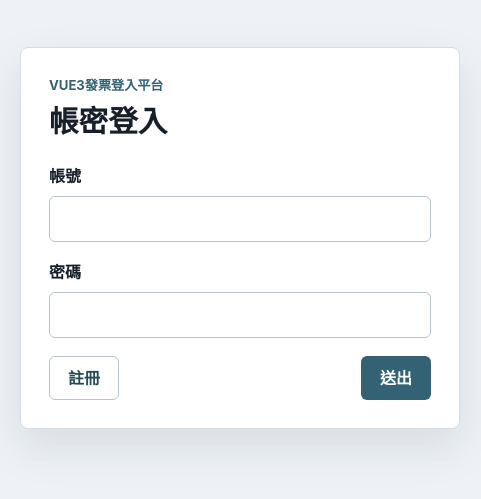
Test case: LoginView › 登入失敗時顯示錯誤訊息
Type "DEMO0001" into the field labelled "帳號" at (240, 219), box [49, 196, 431, 242]
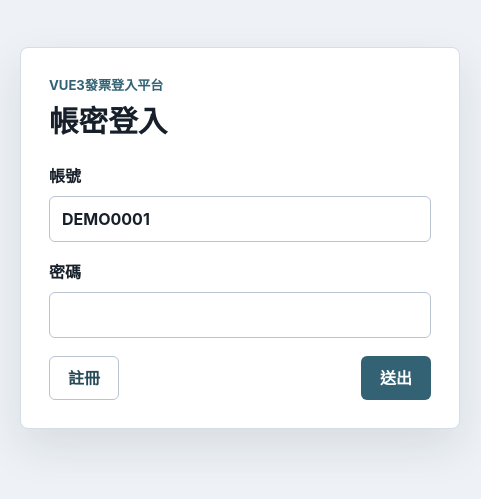
Type "wrongpass" into the password field labelled "密碼" at (240, 315), box [49, 292, 431, 338]
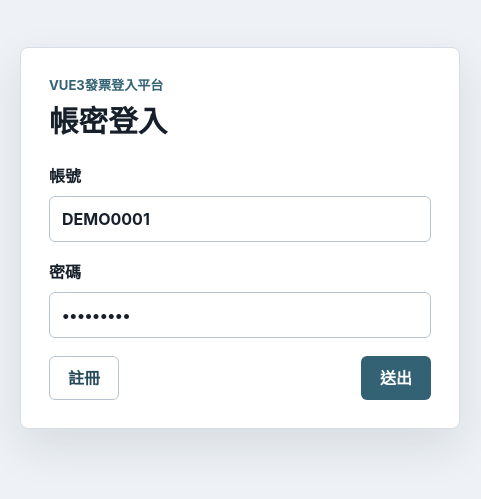
Click the button "送出" at (396, 378), box [361, 356, 431, 400]
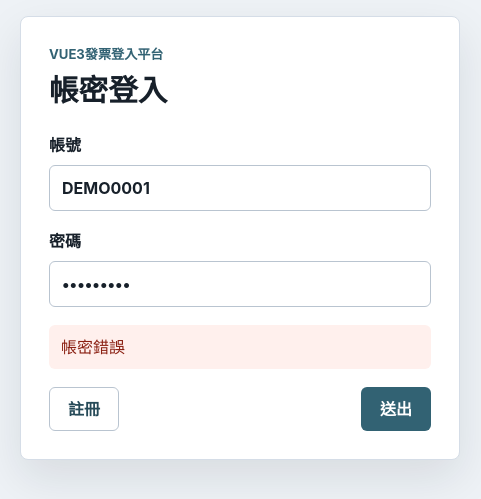
Check: the message reads "帳密錯誤", box [61, 337, 125, 357]
